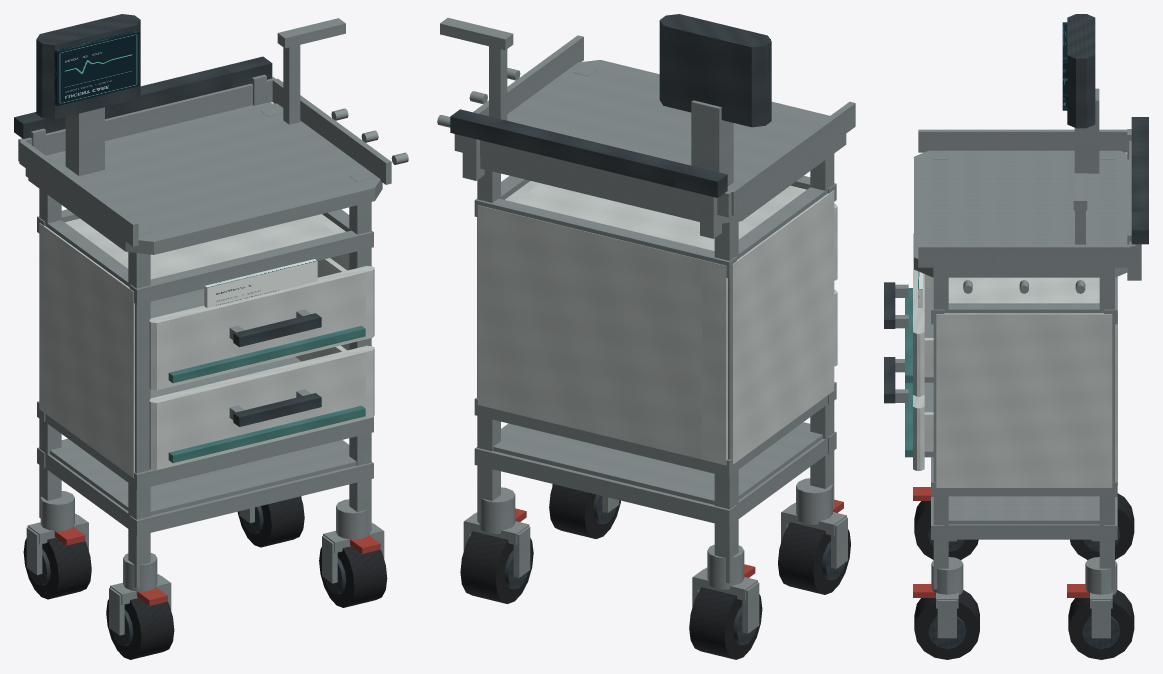
The model's file is PZ_LUCENT_M086_EquipmentTrolley_COMPLETE.glb.
The picture shows the model from 3 angles, left to right: view 1: azimuth 30°, elevation 25°; view 2: azimuth 150°, elevation 25°; view 3: azimuth 270°, elevation 25°; orthographic projection. The views are drawn at different scales.
Parts seen in each view (by area): view 1: TROLLEY_Stainless_Worktop, TROLLEY_CabinetSide_L, TROLLEY_BOTTOM_DrawerFront, TROLLEY_TOP_DrawerFront, TROLLEY_LowerOpenShelf, TROLLEY_CabinetTop, TROLLEY_CornerPost_L_F, TROLLEY_Upper_Shelf_Frame_Front, TROLLEY_VitalsMonitor_Screen, TROLLEY_VitalsMonitor_Housing, TROLLEY_PushHandle_Grip, TROLLEY_Base_Shelf_Frame_Front (+29 smaller); view 2: TROLLEY_CabinetBack, TROLLEY_CabinetSide_L, TROLLEY_Stainless_Worktop, TROLLEY_VitalsMonitor_Housing, TROLLEY_LowerOpenShelf, TROLLEY_PushHandle_Grip, TROLLEY_CabinetTop, TROLLEY_Base_Shelf_Frame_Back, TROLLEY_Worktop_BackLip, TROLLEY_Worktop_RaisedLip_Left, TROLLEY_CornerPost_L_B, TROLLEY_Caster_R_B_Rubber_Tire (+25 smaller); view 3: TROLLEY_CabinetSide_R, TROLLEY_Stainless_Worktop, TROLLEY_Worktop_RaisedLip_Right, TROLLEY_LowerOpenShelf, TROLLEY_Worktop_RaisedLip_Left, TROLLEY_CabinetTop, TROLLEY_VitalsMonitor_Housing, TROLLEY_Base_Shelf_Frame_Right, TROLLEY_Caster_R_B_Rubber_Tire, TROLLEY_PushHandle_Grip, TROLLEY_Caster_R_F_Rubber_Tire, TROLLEY_CornerPost_R_F (+25 smaller).
Part boxes in pixels (x1=…): TROLLEY_Stainless_Worktop: x1=28, y1=102, x2=382, y2=254; TROLLEY_CabinetSide_L: x1=39, y1=223, x2=134, y2=478; TROLLEY_BOTTOM_DrawerFront: x1=149, y1=345, x2=374, y2=469; TROLLEY_TOP_DrawerFront: x1=149, y1=266, x2=374, y2=390; TROLLEY_LowerOpenShelf: x1=50, y1=438, x2=356, y2=515; TROLLEY_CabinetTop: x1=65, y1=214, x2=345, y2=279; TROLLEY_CornerPost_L_F: x1=128, y1=226, x2=150, y2=588; TROLLEY_Upper_Shelf_Frame_Front: x1=129, y1=230, x2=373, y2=304; TROLLEY_VitalsMonitor_Screen: x1=54, y1=30, x2=139, y2=105; TROLLEY_VitalsMonitor_Housing: x1=36, y1=14, x2=140, y2=119; TROLLEY_PushHandle_Grip: x1=14, y1=56, x2=272, y2=138; TROLLEY_Base_Shelf_Frame_Front: x1=129, y1=462, x2=373, y2=535; TROLLEY_CabinetBack: x1=477, y1=205, x2=727, y2=465; TROLLEY_CabinetSide_L: x1=731, y1=190, x2=834, y2=464; TROLLEY_Stainless_Worktop: x1=480, y1=60, x2=846, y2=223; TROLLEY_VitalsMonitor_Housing: x1=659, y1=14, x2=771, y2=127; TROLLEY_LowerOpenShelf: x1=493, y1=422, x2=822, y2=504; TROLLEY_PushHandle_Grip: x1=450, y1=109, x2=727, y2=197; TROLLEY_CabinetTop: x1=505, y1=181, x2=806, y2=250; TROLLEY_Base_Shelf_Frame_Back: x1=474, y1=447, x2=736, y2=526; TROLLEY_Worktop_BackLip: x1=454, y1=134, x2=731, y2=217; TROLLEY_Worktop_RaisedLip_Left: x1=728, y1=101, x2=855, y2=215; TROLLEY_CornerPost_L_B: x1=714, y1=221, x2=738, y2=583; TROLLEY_Caster_R_B_Rubber_Tire: x1=460, y1=531, x2=533, y2=603; TROLLEY_CabinetSide_R: x1=936, y1=313, x2=1112, y2=487; TROLLEY_Stainless_Worktop: x1=914, y1=150, x2=1129, y2=277; TROLLEY_Worktop_RaisedLip_Right: x1=918, y1=244, x2=1130, y2=267; TROLLEY_LowerOpenShelf: x1=948, y1=496, x2=1099, y2=524; TROLLEY_Worktop_RaisedLip_Left: x1=918, y1=129, x2=1127, y2=152; TROLLEY_CabinetTop: x1=948, y1=277, x2=1099, y2=303; TROLLEY_VitalsMonitor_Housing: x1=1067, y1=14, x2=1095, y2=128; TROLLEY_Base_Shelf_Frame_Right: x1=933, y1=524, x2=1103, y2=539; TROLLEY_Caster_R_B_Rubber_Tire: x1=1068, y1=590, x2=1134, y2=659; TROLLEY_PushHandle_Grip: x1=1131, y1=117, x2=1148, y2=244; TROLLEY_Caster_R_F_Rubber_Tire: x1=914, y1=590, x2=979, y2=659; TROLLEY_CornerPost_R_F: x1=933, y1=277, x2=948, y2=589.
Size of the model in its own units: 0.7625 by 1.35 by 0.612.
Materials: 8 (8 with a texture image).
